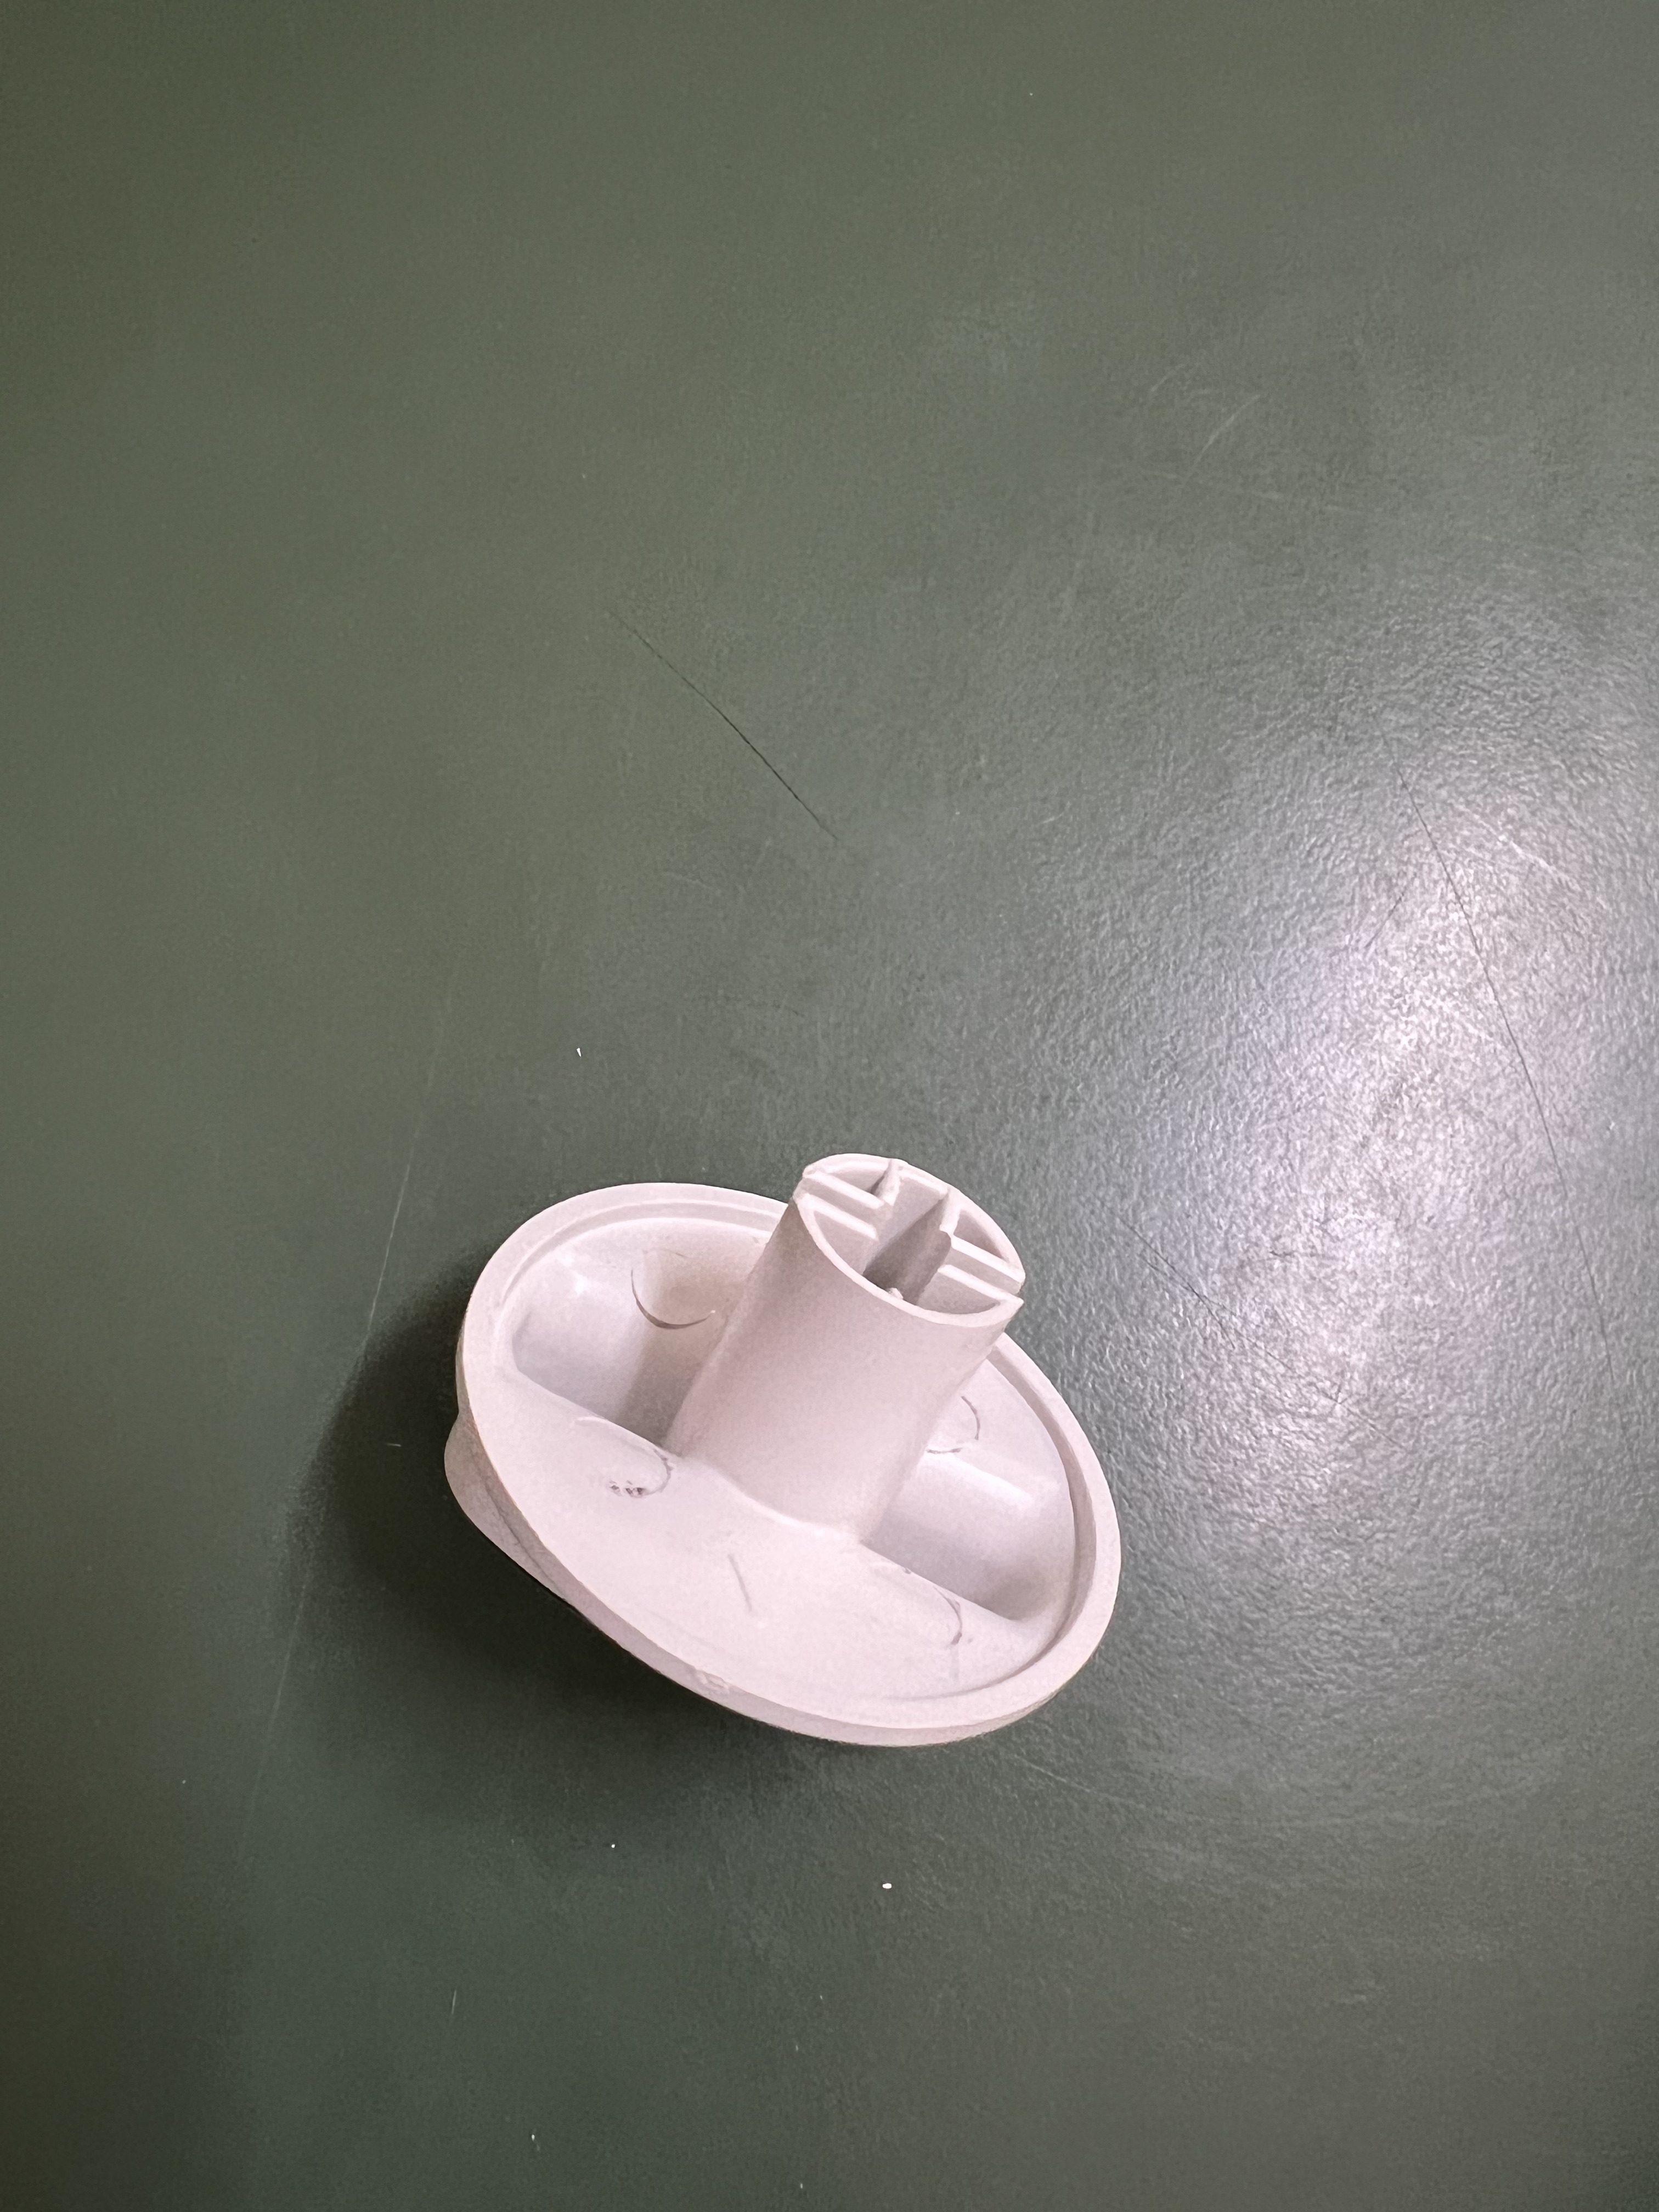regulator: (396, 1120, 1117, 1735)
